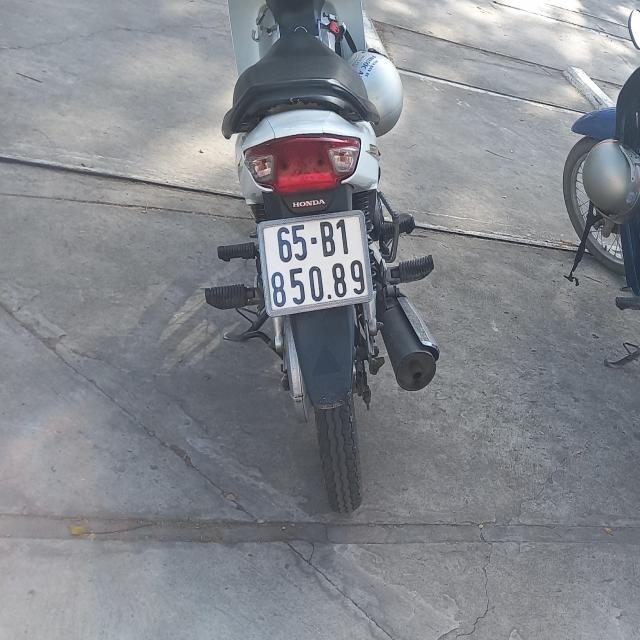0: (307, 264, 323, 303)
1: (334, 216, 349, 256)
5: (292, 223, 308, 261)
6: (276, 224, 294, 262)
8: (271, 270, 291, 310), (331, 261, 348, 304), (288, 268, 304, 304)
9: (348, 257, 365, 297)
B: (316, 218, 336, 256)
